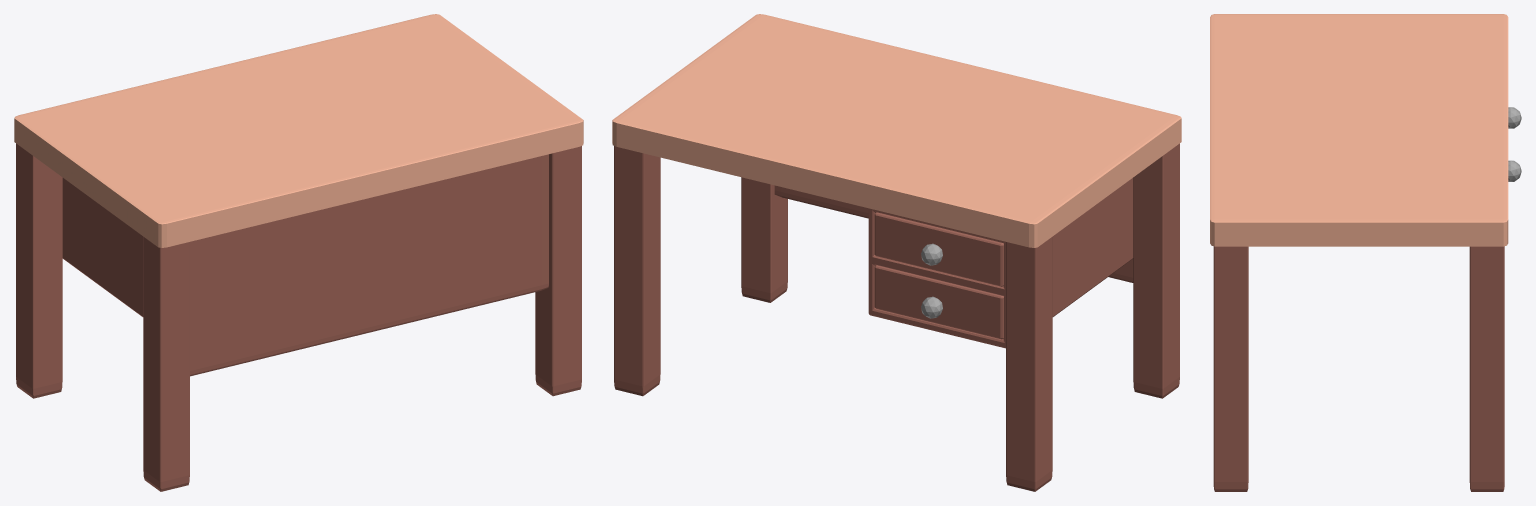
File: Table_1.glb
3 views of the same model, side by side, from view 1: azimuth 30°, elevation 25°; view 2: azimuth 150°, elevation 25°; view 3: azimuth 270°, elevation 25° (orthographic).
Parts seen in each view (by area): view 1: Table_1; view 2: Table_1; view 3: Table_1.
Boxes of the visible parts, bbox=[...] form: Table_1: bbox=[14, 14, 583, 491]; Table_1: bbox=[612, 14, 1181, 491]; Table_1: bbox=[1210, 14, 1521, 491].
Size of the model in its own units: 2.82 by 1.71 by 1.78.
